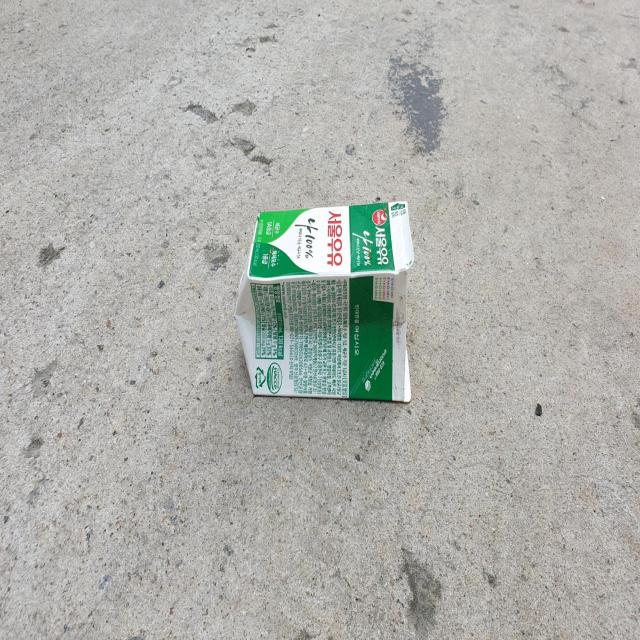paperpack: (236, 200, 414, 401)
